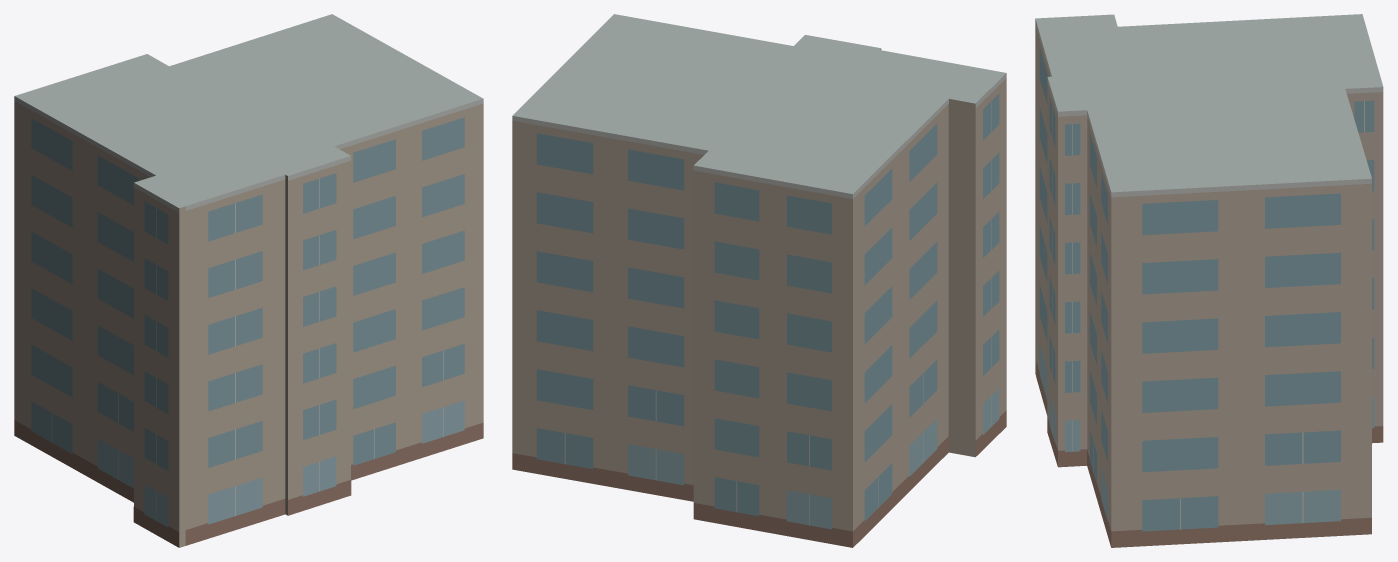
Rendered from survey-upis-32707820.glb.
3 renders of one model, left to right at view 1: azimuth 30°, elevation 25°; view 2: azimuth 150°, elevation 25°; view 3: azimuth 270°, elevation 25°, orthographic. The views are drawn at different scales.
Visible parts, largest first — view 1: survey-upis-32707820.tmp; view 2: survey-upis-32707820.tmp; view 3: survey-upis-32707820.tmp.
Boxes of the visible parts, x1,y1,x2,y2 form: survey-upis-32707820.tmp: (14, 14, 483, 547); survey-upis-32707820.tmp: (512, 14, 1006, 547); survey-upis-32707820.tmp: (1035, 14, 1383, 547).
Size of the model in its own units: 18.73 by 17.4 by 15.44.
